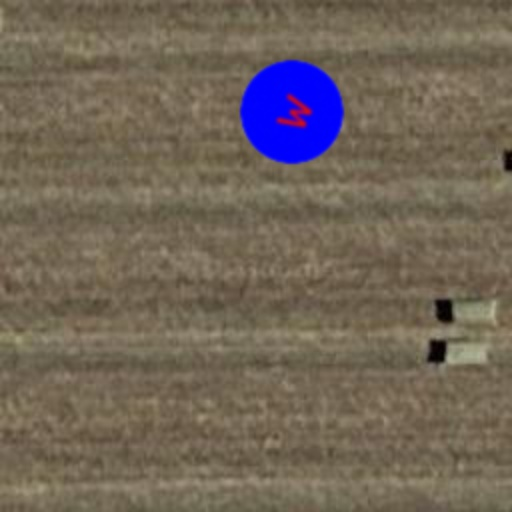circle: (224, 44, 360, 180)
